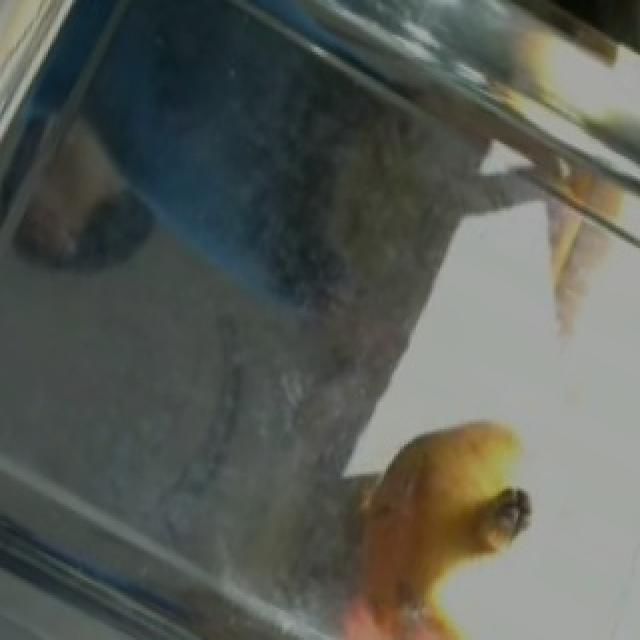fruit: (336, 389, 564, 603)
